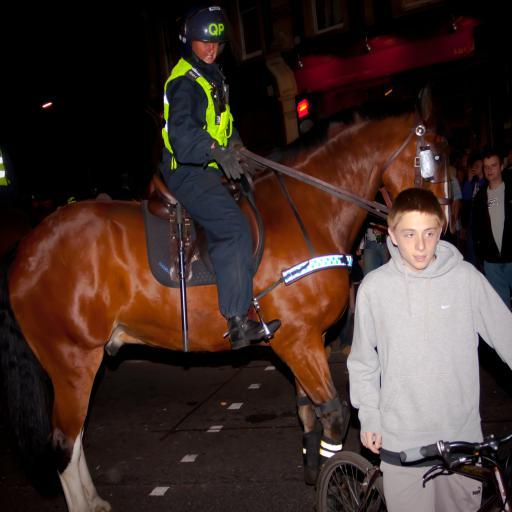Horse: (7, 82, 456, 512)
